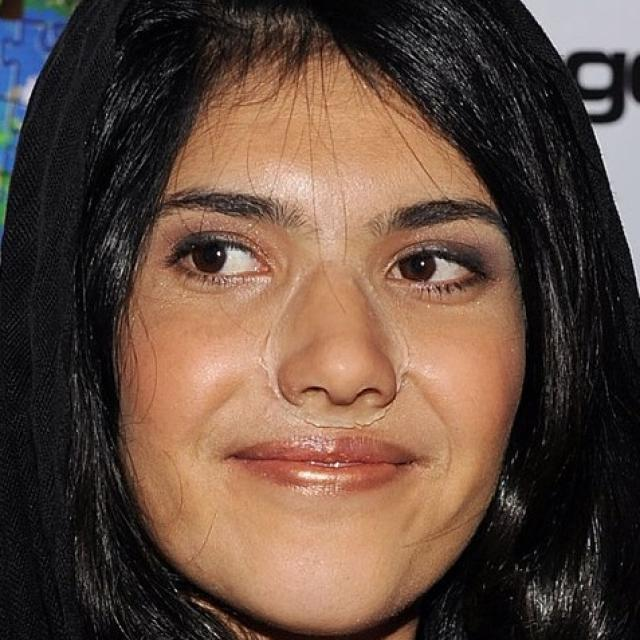Normal: (111, 49, 537, 637)
